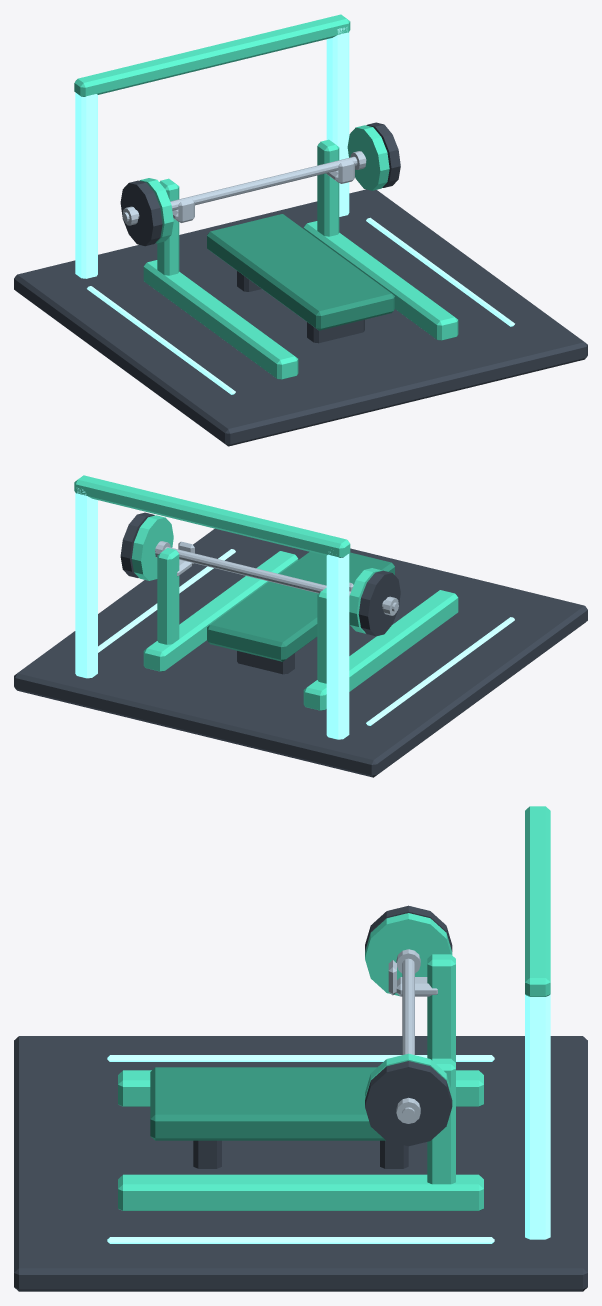
File: Neon.fbx
The picture shows the model from 3 angles, top to bottom: view 1: azimuth 30°, elevation 25°; view 2: azimuth 150°, elevation 25°; view 3: azimuth 270°, elevation 25°; orthographic projection. The views are drawn at different scales.
Visible parts, largest first — view 1: Body.001, Barbell.001; view 2: Body.001, Barbell.001; view 3: Body.001, Barbell.001.
Part boxes in pixels (box(x1,y1,x2,y2)): Body.001: box(14, 14, 587, 446); Barbell.001: box(120, 122, 400, 246); Body.001: box(14, 475, 587, 777); Barbell.001: box(120, 512, 400, 636); Body.001: box(14, 806, 587, 1291); Barbell.001: box(365, 905, 452, 1146).
Size of the model in its own units: 390 by 218 by 400.
